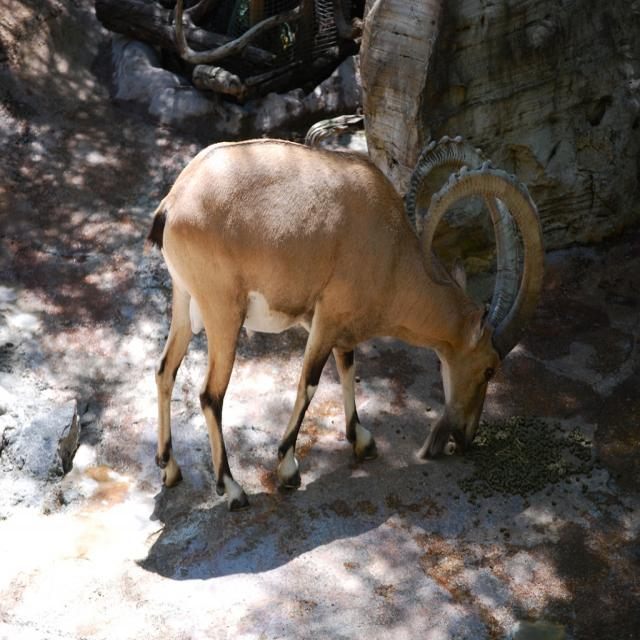Goat: (139, 135, 545, 511)
